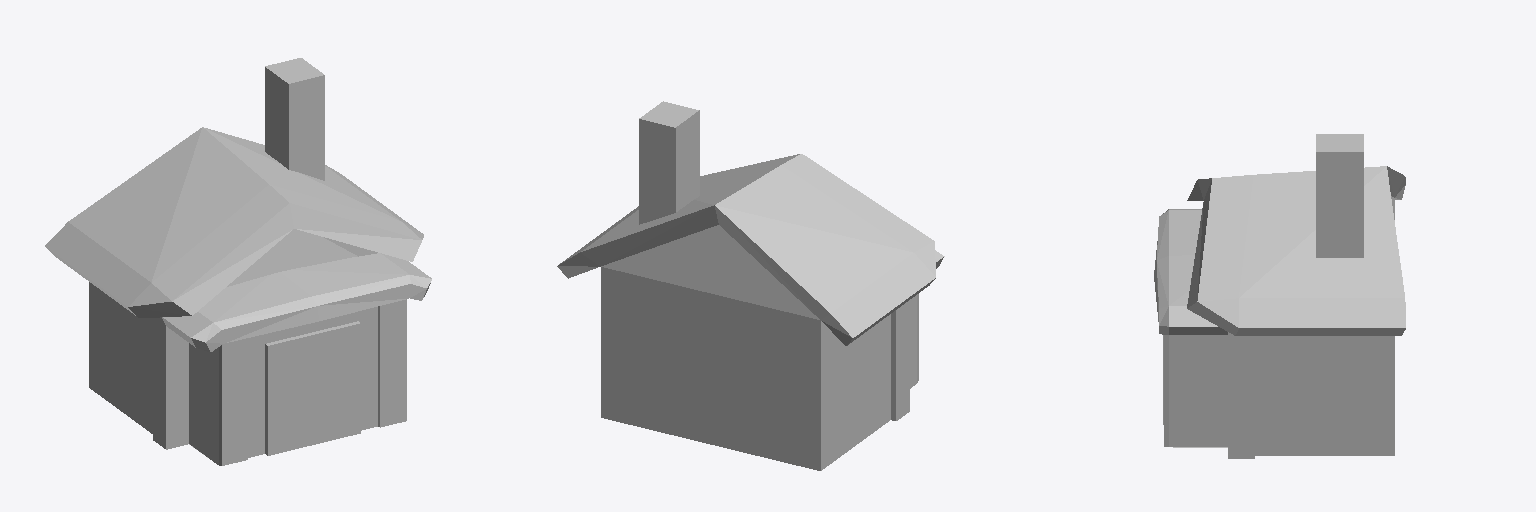
The model's file is house 1.obj.
3 renders of one model, left to right at view 1: azimuth 30°, elevation 25°; view 2: azimuth 150°, elevation 25°; view 3: azimuth 270°, elevation 25°, orthographic.
Parts seen in each view (by area): view 1: Cube; view 2: Cube; view 3: Cube.
Part boxes in pixels (bbox=[...]): Cube: bbox=[45, 58, 431, 465]; Cube: bbox=[557, 101, 944, 470]; Cube: bbox=[1154, 134, 1405, 458].
Size of the model in its own units: 61.59 by 58.21 by 45.4.